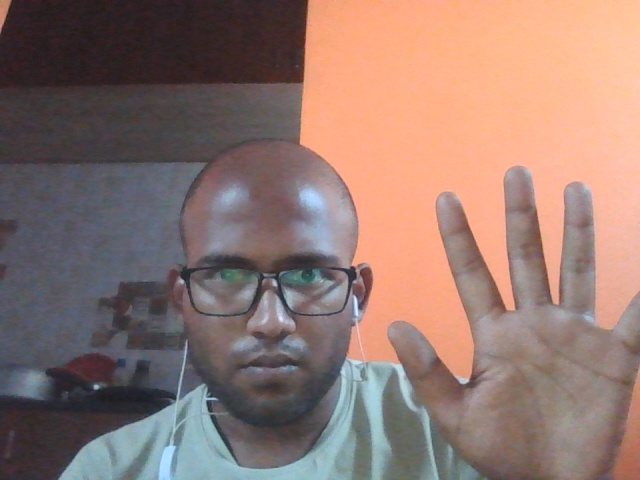hello: (385, 149, 640, 480)
